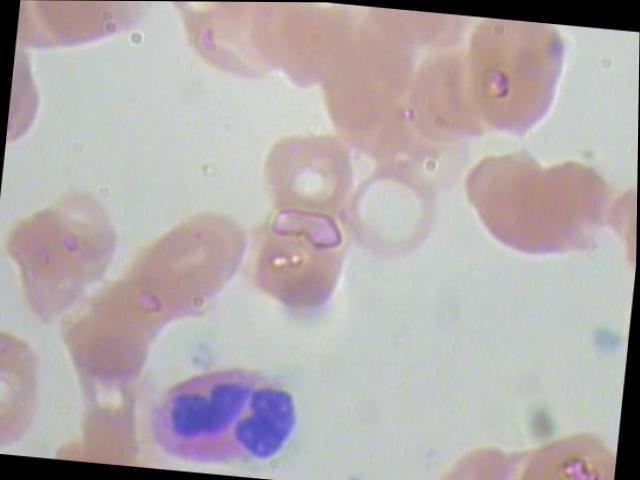Red Blood Cells: (445, 15, 577, 141), (241, 201, 354, 318), (340, 156, 453, 273), (250, 116, 362, 233), (138, 198, 250, 315), (21, 180, 133, 297), (505, 155, 619, 267), (454, 146, 552, 257), (0, 320, 62, 457), (516, 422, 621, 479)
White Blood Cells: (140, 353, 310, 475)
